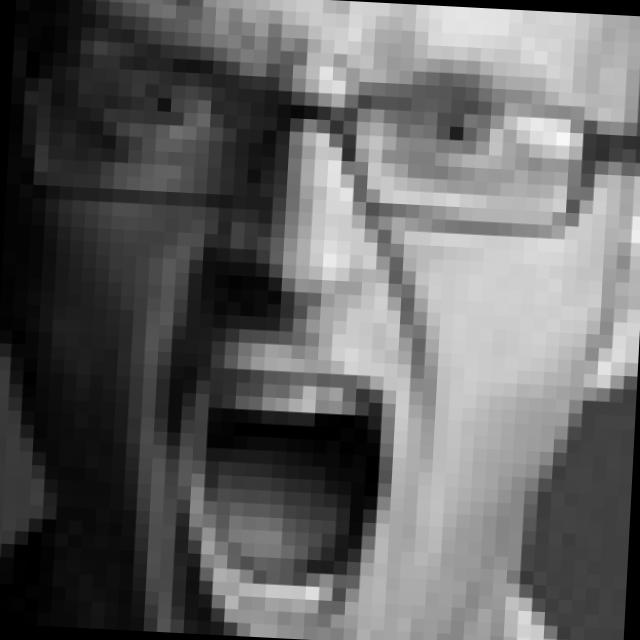angry: (35, 10, 562, 640)
